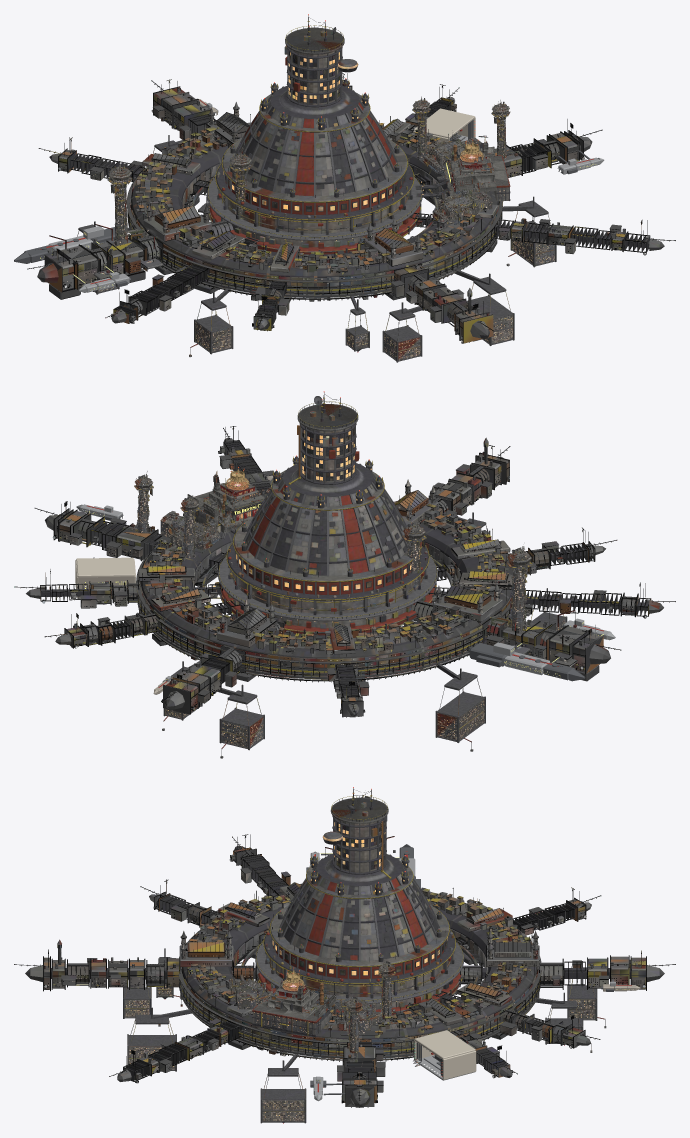
The picture shows the model from 3 angles, top to bottom: view 1: azimuth 30°, elevation 25°; view 2: azimuth 150°, elevation 25°; view 3: azimuth 270°, elevation 25°; orthographic projection. The views are drawn at different scales.
Visible parts, largest first — view 1: DC_arms_patine, DC_core_v2, DC_ring_patine, DC_modules_patine, BAR_tavern_patine, DC_ships, TOURELLE_minaret1, DC_hangar, EAST_fortress_patine.001, EAST_fortress_patine, TOURELLE_minaret2, TOURELLE_pirate_patine (+1 smaller); view 2: DC_arms_patine, DC_core_v2, DC_ring_patine, DC_modules_patine, DC_ships, BAR_tavern_patine, DC_hangar, TOURELLE_minaret1, EAST_fortress_patine, TOURELLE_minaret2, TOURELLE_pirate_patine.001, TOURELLE_pirate_patine; view 3: DC_arms_patine, DC_core_v2, DC_ring_patine, DC_modules_patine, DC_hangar, BAR_tavern_patine, BAR_back_fill, DC_ships, EAST_fortress_patine.001, EAST_fortress_patine, TOURELLE_pirate_patine.001, TOURELLE_pirate_patine.
Part boxes in pixels (box(x1,y1,x2,y2)): DC_arms_patine: box(27, 73, 675, 343); DC_core_v2: box(200, 14, 423, 254); DC_ring_patine: box(126, 114, 502, 301); DC_modules_patine: box(77, 135, 556, 362); BAR_tavern_patine: box(435, 134, 509, 198); DC_ships: box(14, 98, 604, 292); TOURELLE_minaret1: box(99, 162, 149, 245); DC_hangar: box(413, 108, 475, 141); EAST_fortress_patine.001: box(432, 188, 492, 224); EAST_fortress_patine: box(422, 134, 481, 172); TOURELLE_minaret2: box(222, 150, 252, 227); TOURELLE_pirate_patine: box(408, 96, 442, 158); DC_arms_patine: box(14, 426, 675, 717); DC_core_v2: box(213, 391, 437, 635); DC_ring_patine: box(136, 495, 518, 682); DC_modules_patine: box(162, 512, 567, 758); DC_ships: box(76, 504, 615, 694); BAR_tavern_patine: box(187, 466, 265, 539); DC_hangar: box(75, 557, 135, 598); TOURELLE_minaret1: box(477, 546, 533, 635); EAST_fortress_patine: box(160, 511, 220, 549); TOURELLE_minaret2: box(402, 517, 426, 590); TOURELLE_pirate_patine.001: box(110, 471, 153, 533); TOURELLE_pirate_patine: box(169, 495, 200, 562); DC_arms_patine: box(14, 834, 675, 1107); DC_core_v2: box(255, 787, 464, 1016); DC_ring_patine: box(178, 887, 541, 1061); DC_modules_patine: box(123, 900, 606, 1123); DC_hangar: box(414, 1030, 476, 1080); BAR_tavern_patine: box(252, 967, 341, 1029); BAR_back_fill: box(252, 1005, 321, 1036); DC_ships: box(306, 844, 640, 1101); EAST_fortress_patine.001: box(228, 978, 272, 1014); EAST_fortress_patine: box(337, 999, 382, 1034); TOURELLE_pirate_patine.001: box(345, 993, 362, 1066); TOURELLE_pirate_patine: box(378, 960, 395, 1030).
Size of the model in its own units: 2486 by 1089 by 2559.
Materials: 42 (11 with a texture image).
